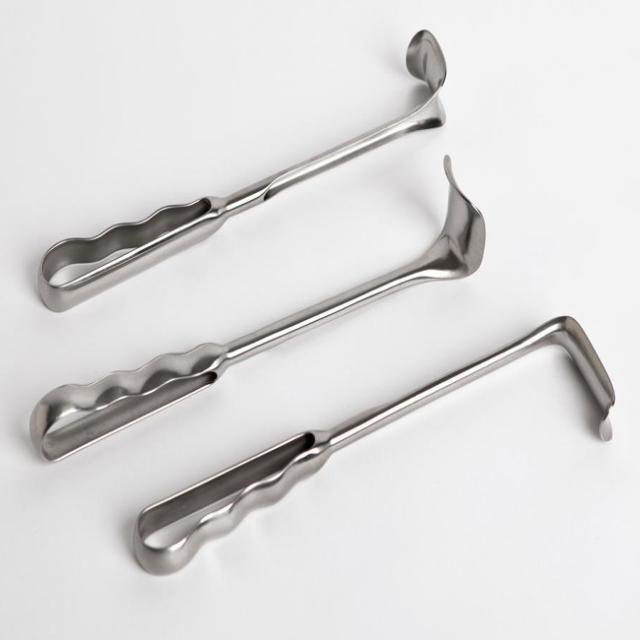Richardson: (28, 150, 488, 467), (130, 311, 618, 578), (33, 28, 450, 314)
